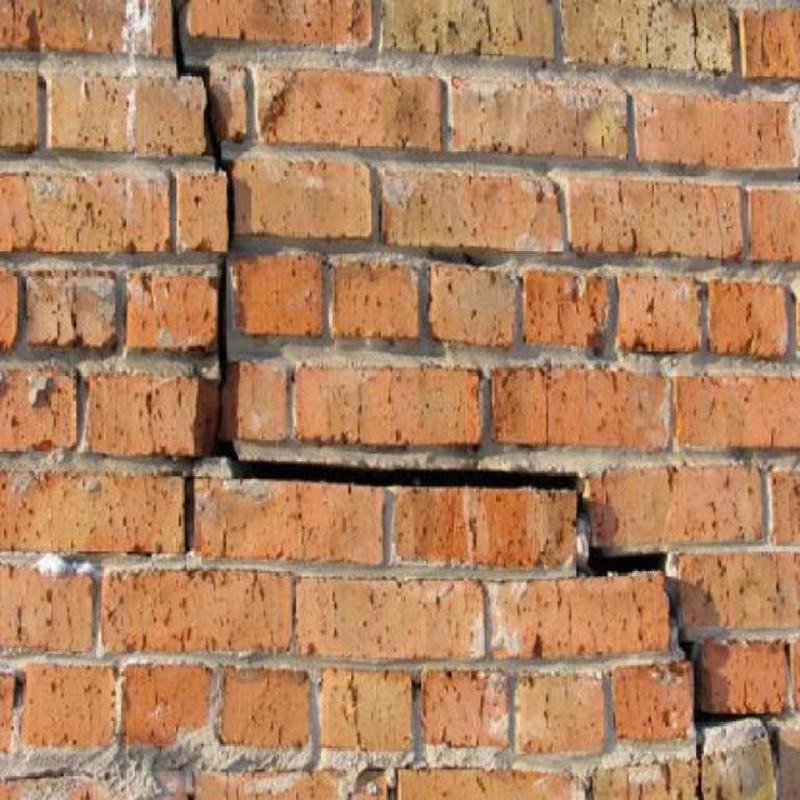pothole: (175, 1, 665, 576), (665, 587, 779, 799), (691, 5, 701, 71), (545, 381, 550, 449)
